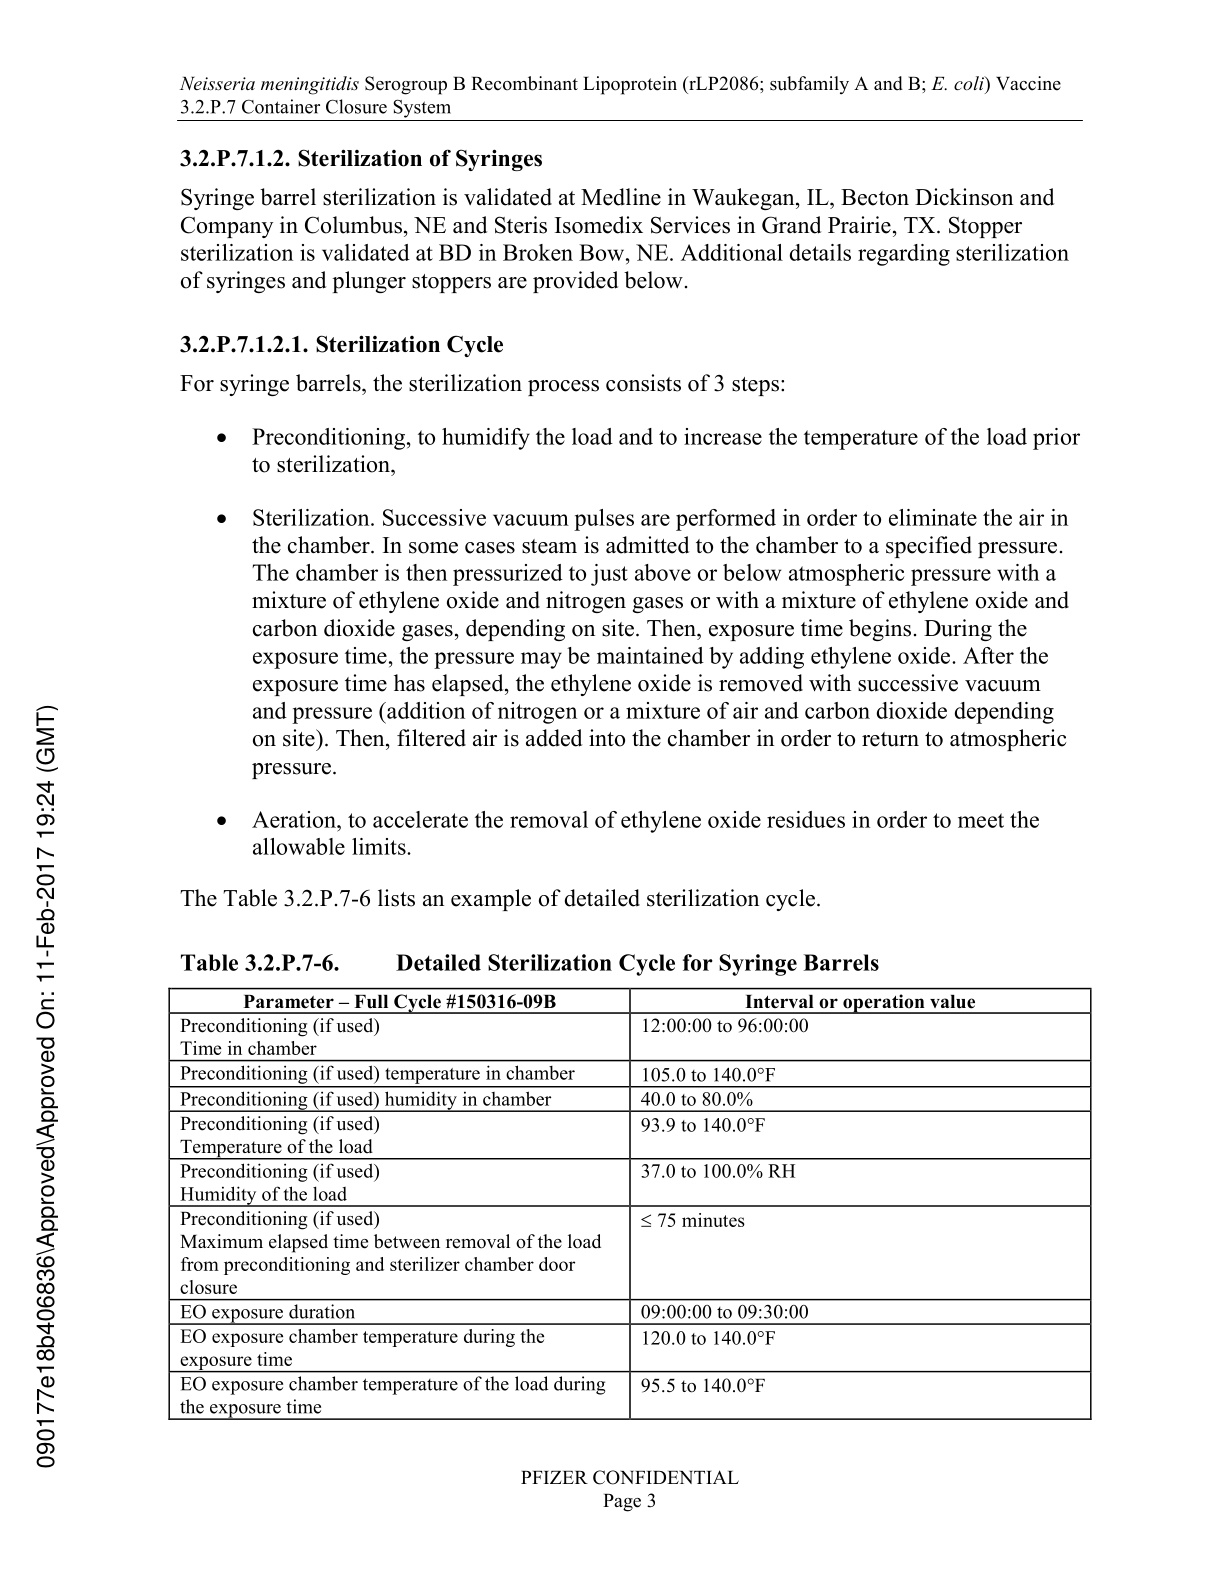full_lined: (167, 987, 1093, 1421)
